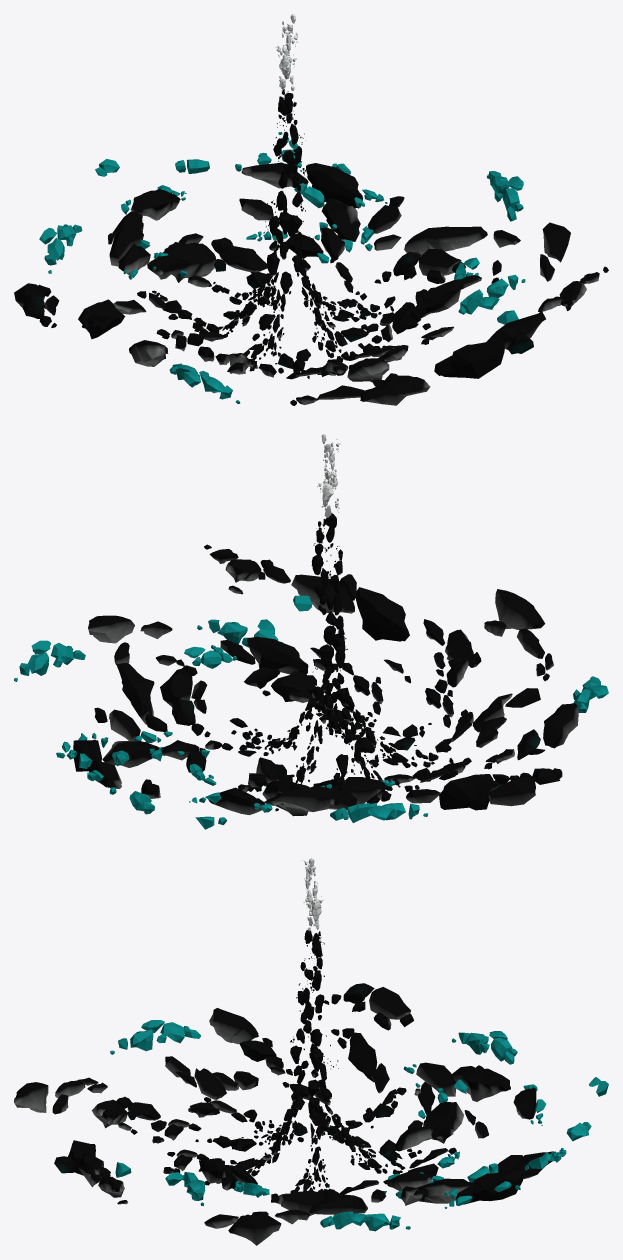
3 views of the same model, one above another, from view 1: azimuth 30°, elevation 25°; view 2: azimuth 150°, elevation 25°; view 3: azimuth 270°, elevation 25° (orthographic). The views are drawn at different scales.
Visible parts, largest first — view 1: G:\FFXIV-MapTools\exports\u5f2\bg\ex4\04_uvs_u5\fld\u5f2\bgp (×3); view 2: G:\FFXIV-MapTools\exports\u5f2\bg\ex4\04_uvs_u5\fld\u5f2\bgp (×3); view 3: G:\FFXIV-MapTools\exports\u5f2\bg\ex4\04_uvs_u5\fld\u5f2\bgp (×3).
Part boxes in pixels (x1,y1,x2,y2): G:\FFXIV-MapTools\exports\u5f2\bg\ex4\04_uvs_u5\fld\u5f2\bgp (×3): (14, 14, 608, 405); G:\FFXIV-MapTools\exports\u5f2\bg\ex4\04_uvs_u5\fld\u5f2\bgp (×3): (14, 434, 608, 829); G:\FFXIV-MapTools\exports\u5f2\bg\ex4\04_uvs_u5\fld\u5f2\bgp (×3): (14, 858, 608, 1245).
Bounding box in the file's own units: 2923 × 1770 × 3072.
